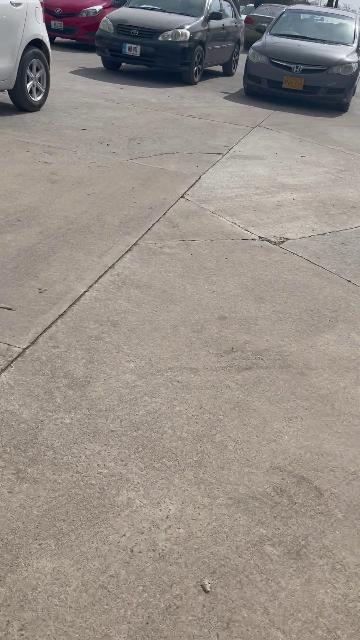plate: (282, 75, 307, 91), (122, 43, 140, 56)
